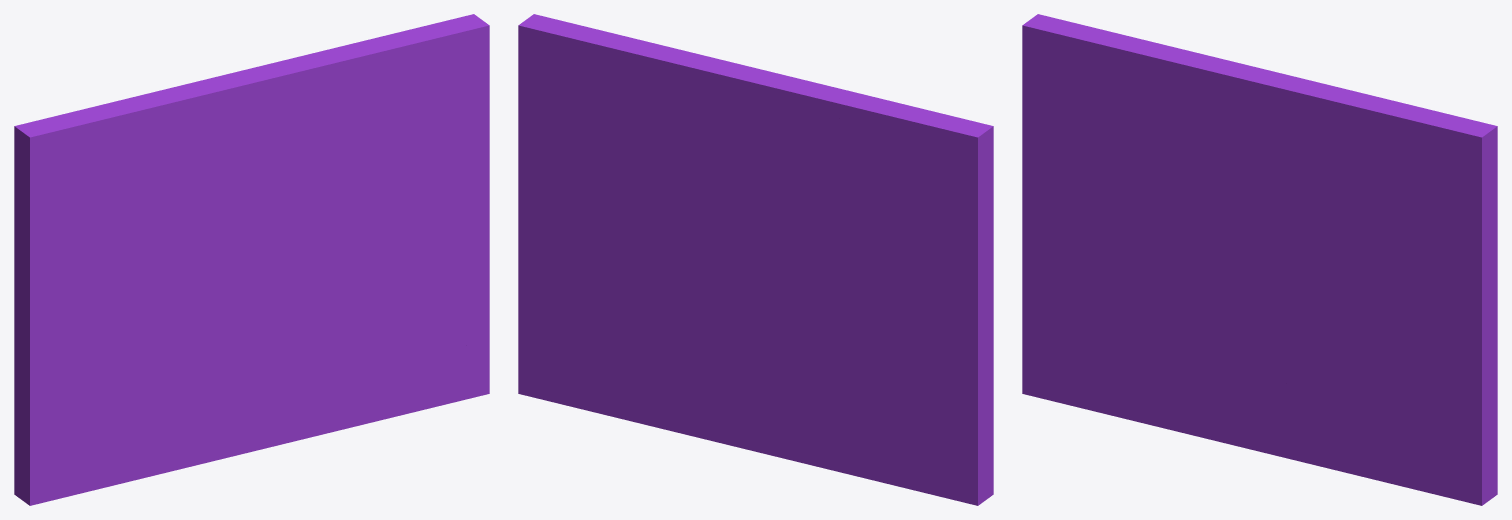
Rendered from Barrier_164_chunks.fbx.
The picture shows the model from 3 angles, left to right: view 1: azimuth 30°, elevation 25°; view 2: azimuth 150°, elevation 25°; view 3: azimuth 330°, elevation 25°; orthographic projection.
Visible parts, largest first — view 1: Barrier_164_1, Barrier_164_2, Barrier_164_6, Barrier_164_5, Barrier_164_3, Barrier_164_4; view 2: Barrier_164_2, Barrier_164_1, Barrier_164_0, Barrier_164_4, Barrier_164_3, Barrier_164_5, Barrier_164_6; view 3: Barrier_164_1, Barrier_164_2, Barrier_164_6, Barrier_164_5, Barrier_164_3, Barrier_164_4.
Part boxes in pixels (left/top/right/bottom): Barrier_164_1: left=14, top=94, right=266, bottom=505; Barrier_164_2: left=146, top=14, right=489, bottom=263; Barrier_164_6: left=259, top=227, right=489, bottom=351; Barrier_164_5: left=236, top=336, right=489, bottom=455; Barrier_164_3: left=127, top=275, right=303, bottom=482; Barrier_164_4: left=387, top=276, right=489, bottom=347; Barrier_164_2: left=518, top=14, right=847, bottom=264; Barrier_164_1: left=802, top=90, right=993, bottom=505; Barrier_164_0: left=735, top=185, right=937, bottom=495; Barrier_164_4: left=518, top=228, right=701, bottom=387; Barrier_164_3: left=701, top=265, right=884, bottom=483; Barrier_164_5: left=518, top=366, right=756, bottom=451; Barrier_164_6: left=550, top=234, right=735, bottom=323; Barrier_164_1: left=1022, top=14, right=1258, bottom=417; Barrier_164_2: left=1168, top=46, right=1497, bottom=338; Barrier_164_6: left=1252, top=267, right=1493, bottom=398; Barrier_164_5: left=1229, top=373, right=1497, bottom=505; Barrier_164_3: left=1119, top=275, right=1295, bottom=443; Barrier_164_4: left=1379, top=329, right=1497, bottom=487.
Bounding box in the file's own units: 376 × 288 × 22.1.
